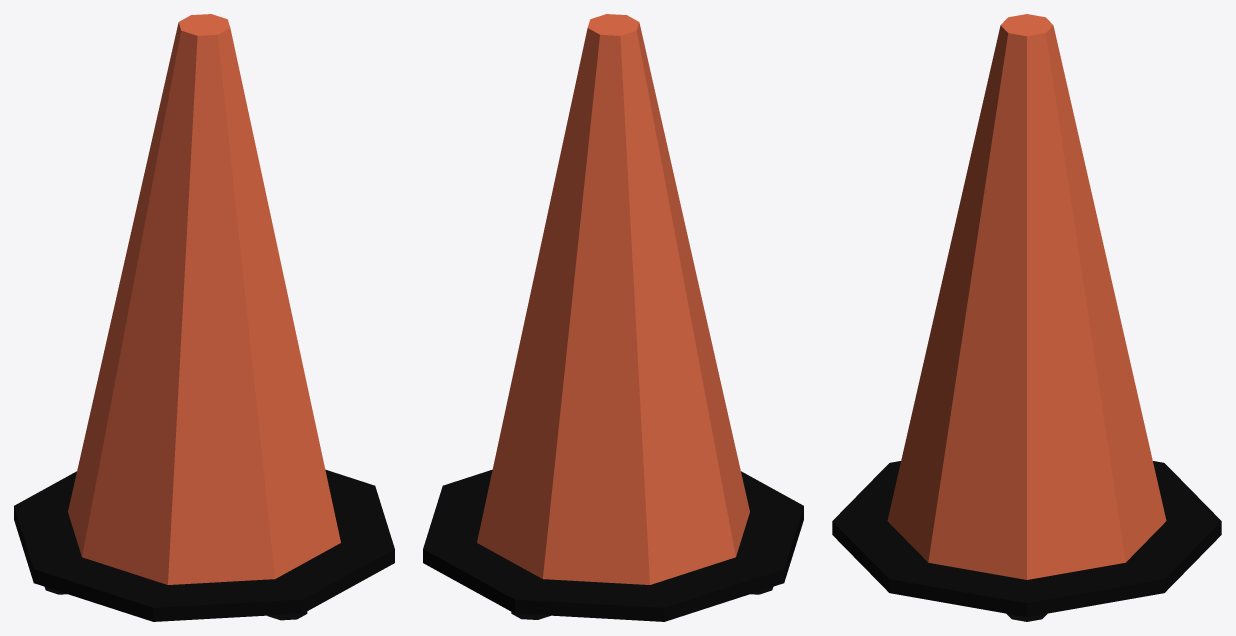
The model's file is Traffic_cone1 (1).fbx.
3 renders of one model, left to right at view 1: azimuth 30°, elevation 25°; view 2: azimuth 150°, elevation 25°; view 3: azimuth 270°, elevation 25°, orthographic.
Visible parts, largest first — view 1: Circle; view 2: Circle; view 3: Circle.
Boxes of the visible parts, x1,y1,x2,y2 form: Circle: (14, 14, 394, 621); Circle: (423, 14, 803, 621); Circle: (832, 14, 1221, 621).
Size of the model in its own units: 239 by 353 by 239.
